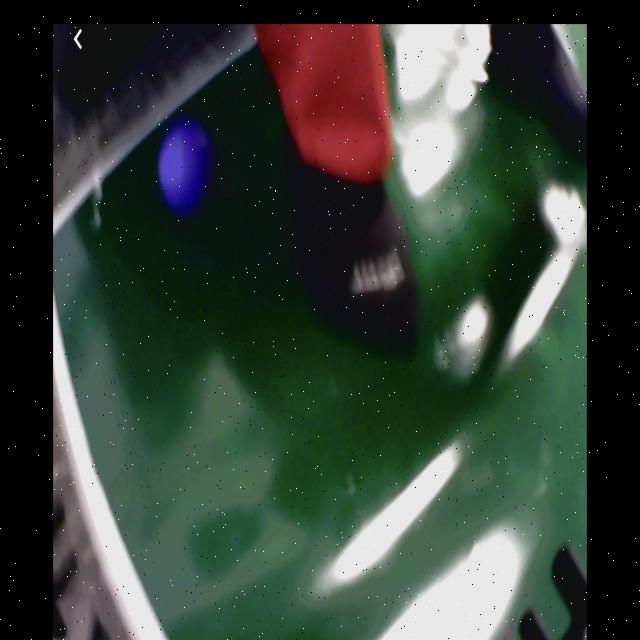ball: (161, 122, 212, 215)
